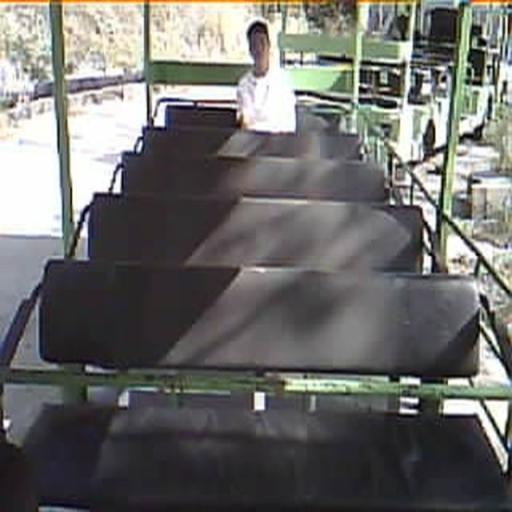persona: (235, 16, 298, 135)
